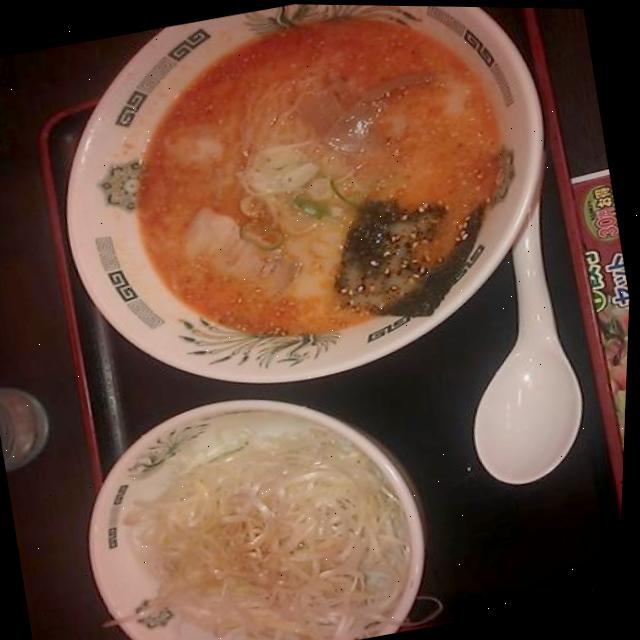面条主食: (21, 0, 583, 420)
